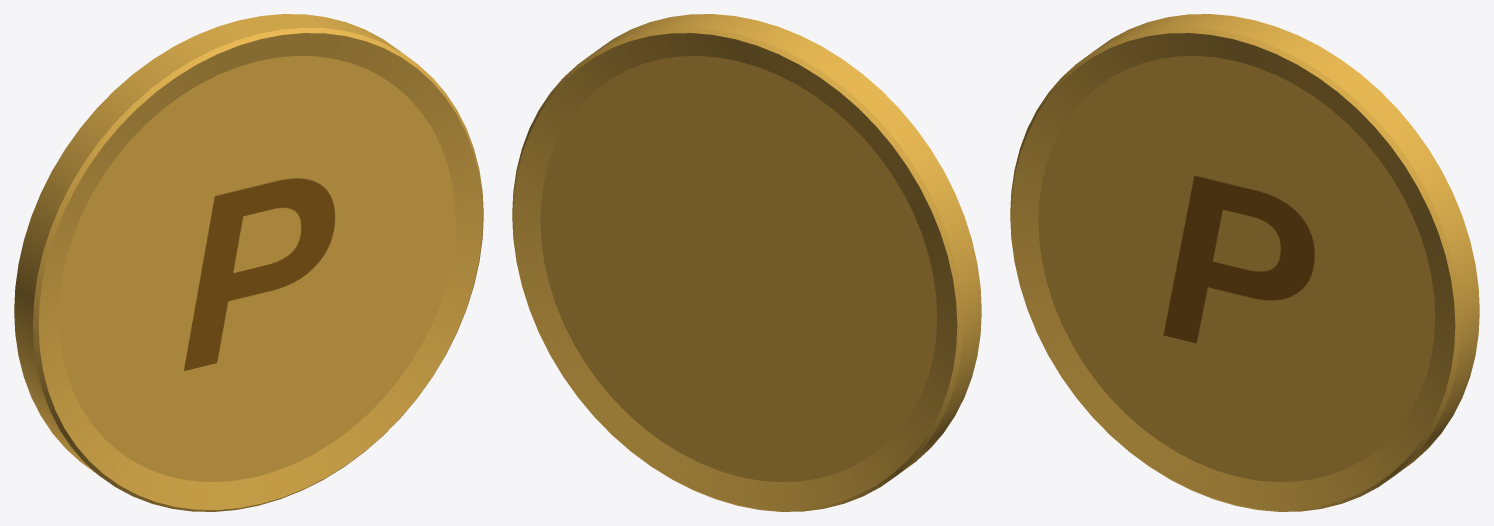
File: point-coin.glb
3 renders of one model, left to right at view 1: azimuth 30°, elevation 25°; view 2: azimuth 150°, elevation 25°; view 3: azimuth 330°, elevation 25°, orthographic.
Parts seen in each view (by area): view 1: face, rim; view 2: back, rim; view 3: face, rim.
Part boxes in pixels (x1,y1,x2,y2): face: (58, 56, 455, 481); rim: (14, 14, 483, 511); back: (540, 56, 937, 481); rim: (512, 14, 981, 511); face: (1038, 56, 1435, 481); rim: (1010, 14, 1479, 511).
Bounding box in the file's own units: 1 × 1 × 0.09.
2 materials, 1 textured.
